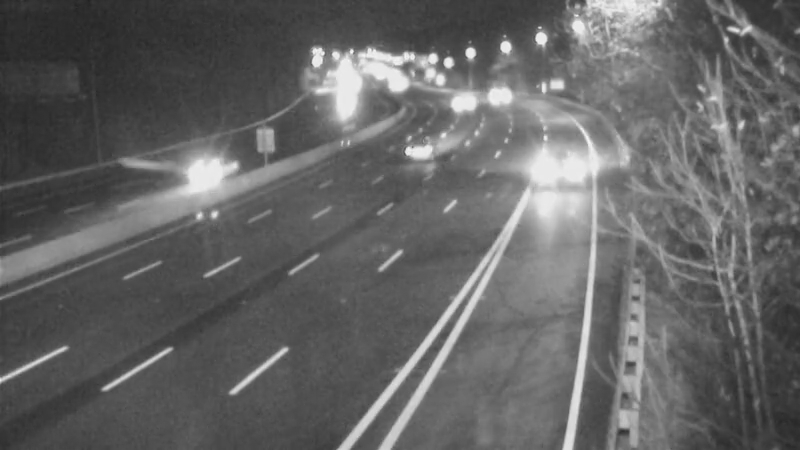vehicle: (526, 128, 606, 208), (170, 129, 250, 209), (472, 72, 522, 122), (432, 76, 482, 126), (398, 122, 448, 172)
